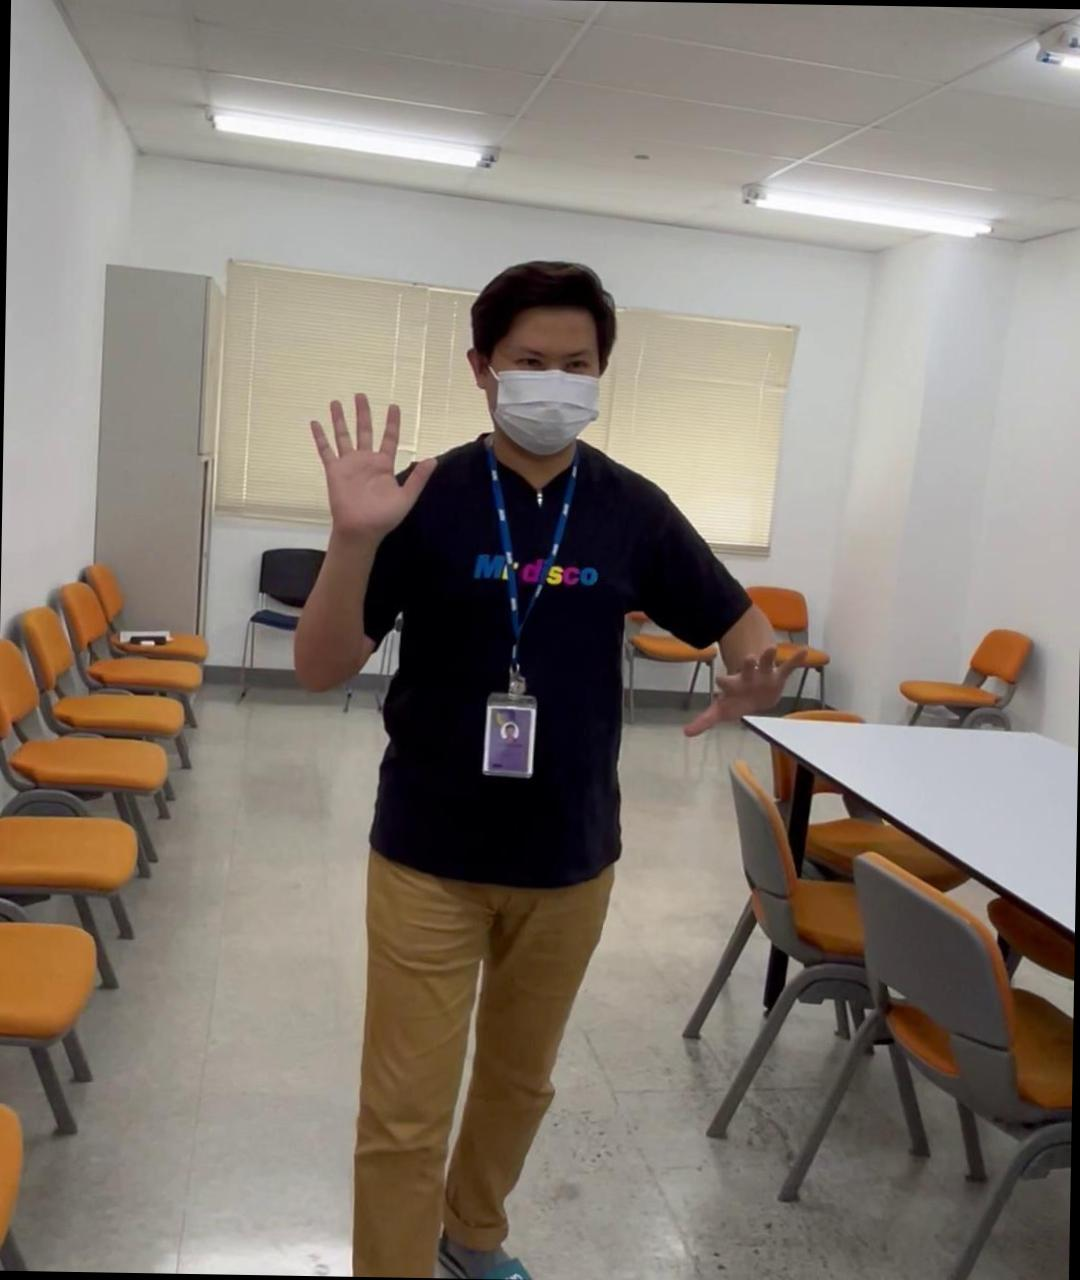No-gloves: (304, 385, 439, 527), (680, 628, 815, 736)
